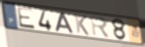4: (37, 9, 53, 33)
8: (111, 18, 127, 41)
A: (54, 12, 75, 35)
E: (16, 6, 37, 30)
K: (73, 14, 90, 37)
R: (89, 15, 111, 40)
